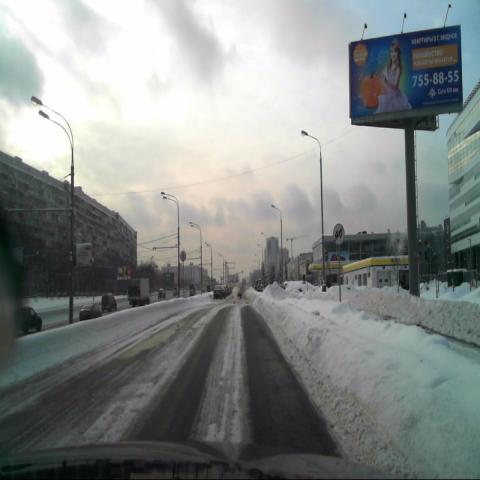3_25: (332, 222, 345, 246)
